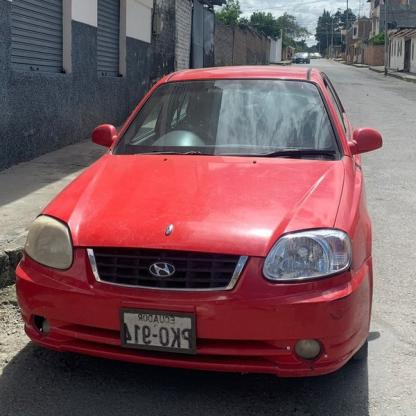Placa: (117, 310, 199, 358)
